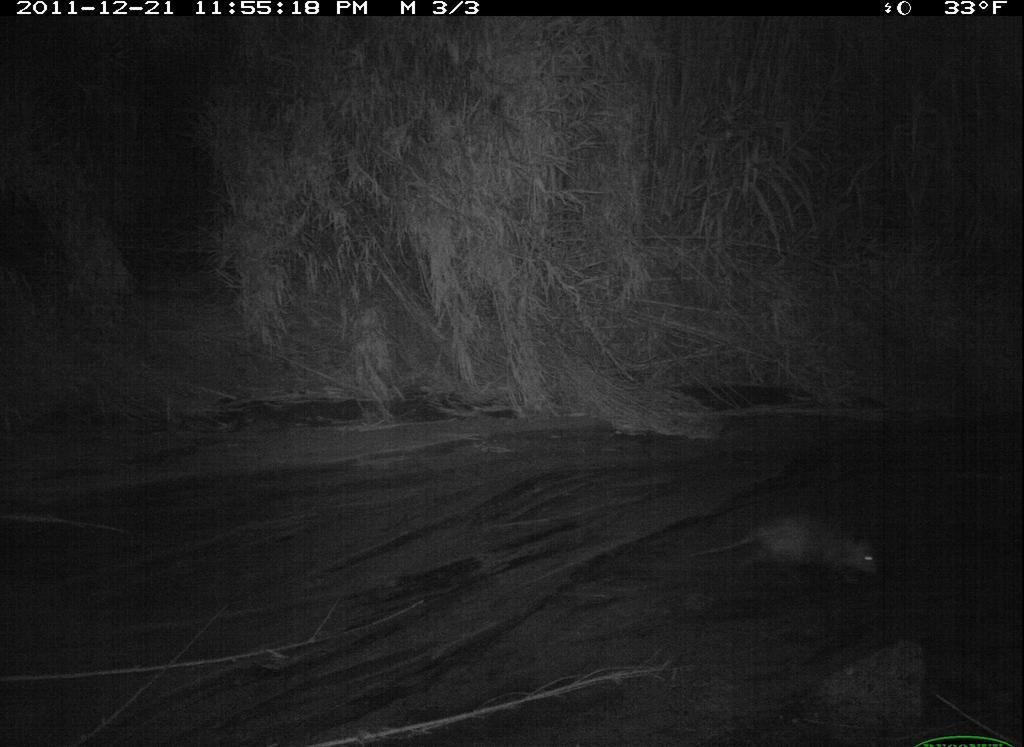opossum: (696, 507, 891, 579)
